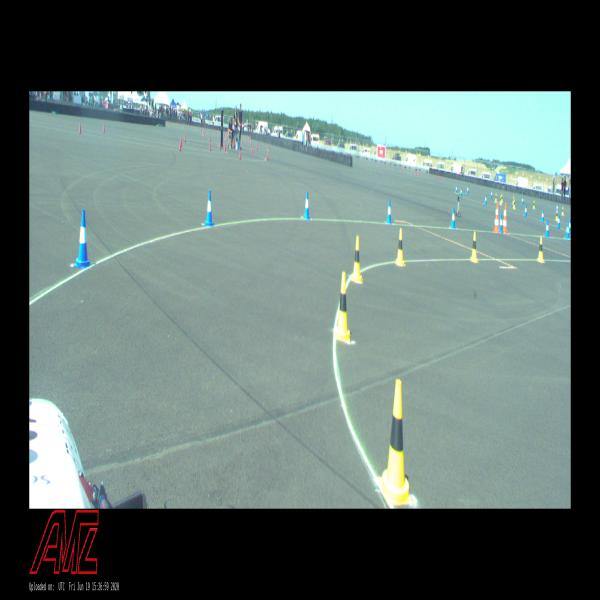blue_cone: (74, 210, 91, 268), (204, 190, 214, 226), (304, 191, 310, 219), (386, 201, 392, 224), (451, 208, 456, 228), (499, 214, 503, 233), (545, 220, 549, 237), (566, 222, 570, 239), (557, 215, 560, 228), (568, 219, 570, 234), (484, 195, 487, 205), (542, 210, 544, 222), (525, 205, 527, 216), (460, 187, 462, 197), (456, 185, 458, 193)
large_orange_cone: (493, 202, 499, 232), (503, 204, 507, 234)
unknown_cone: (79, 124, 82, 134), (179, 141, 182, 151), (102, 124, 104, 133), (239, 150, 241, 159)
yellow_cone: (378, 380, 413, 504), (335, 273, 350, 342), (351, 236, 362, 282), (396, 228, 404, 266), (470, 232, 478, 262), (537, 236, 544, 262), (499, 195, 502, 204), (561, 207, 564, 215), (499, 196, 502, 204), (556, 210, 558, 220), (513, 199, 515, 209), (495, 193, 497, 202), (501, 194, 503, 203), (533, 200, 535, 208), (513, 196, 514, 204)
